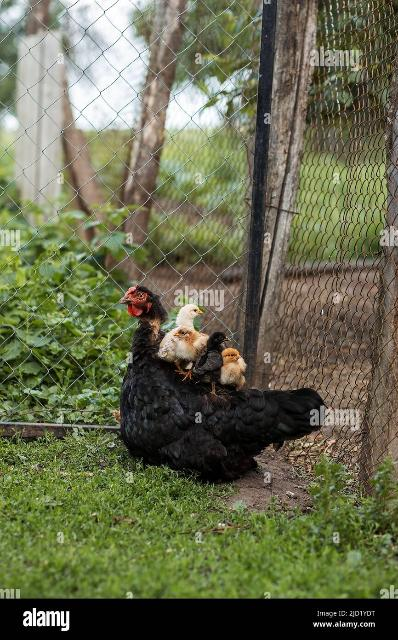Chicken: (118, 283, 327, 482)
